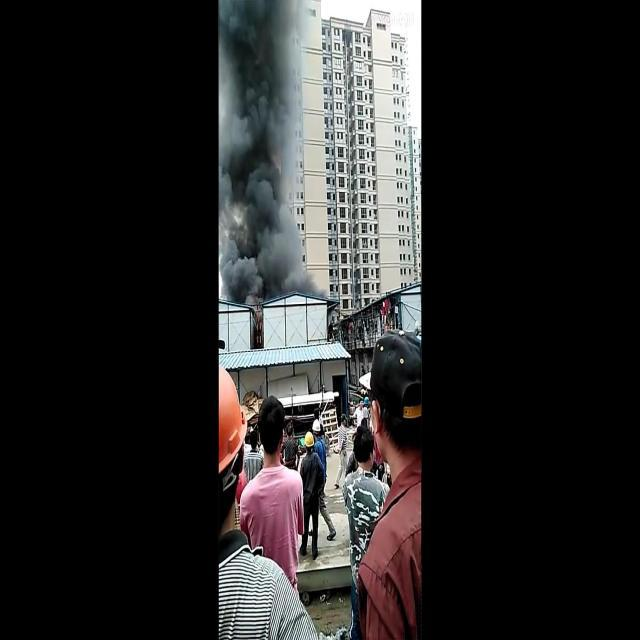Smoke: (220, 1, 325, 300)
